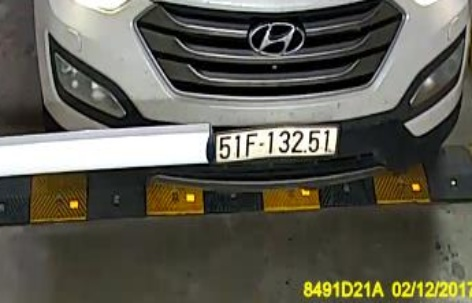plate: (212, 125, 340, 166)
